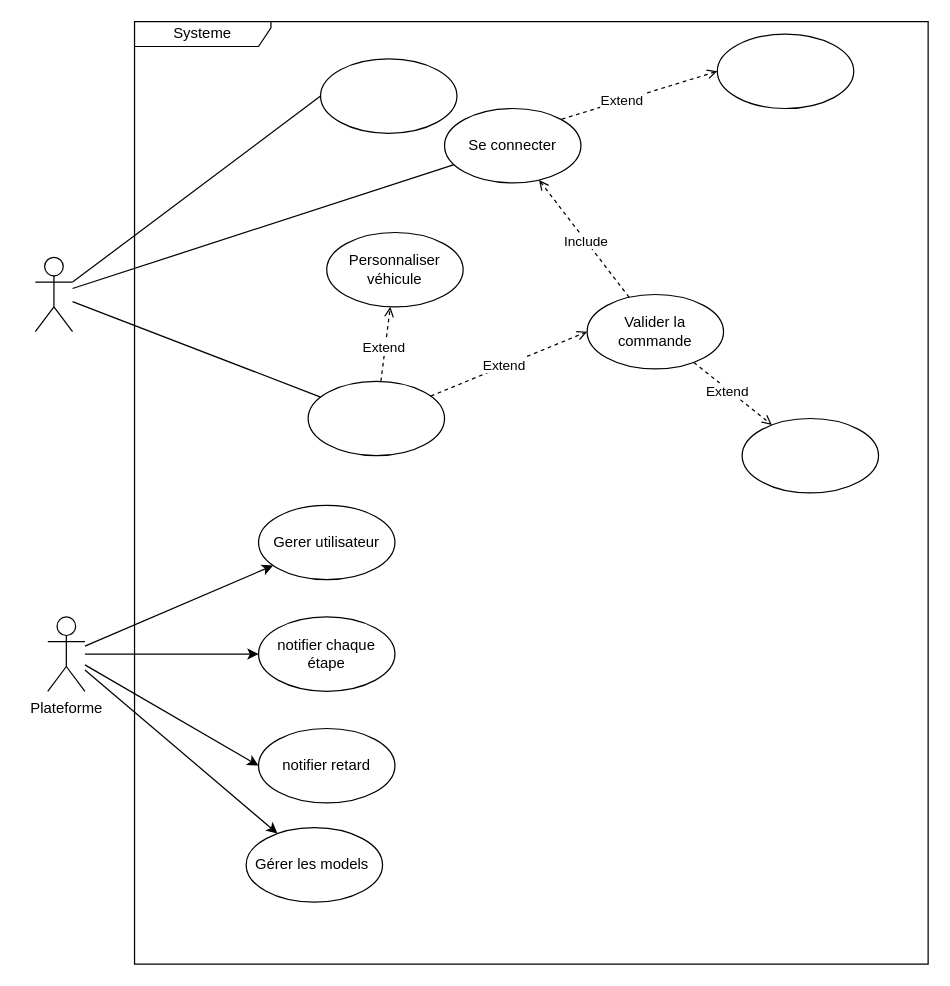
The diagram is 950 pixels wide and 986 high, and some of its shapes have lost their labels. The shapes that lost their labels are listed below. From the top down, each one's centre as x and y in pixels, then its label:
the point at 785,70: Gérer compte
the point at 388,95: Creer compte
the point at 53,294: Utilisateur
the point at 376,418: Choisir un véhicule
the point at 810,455: Voir l'avancement de la commande
